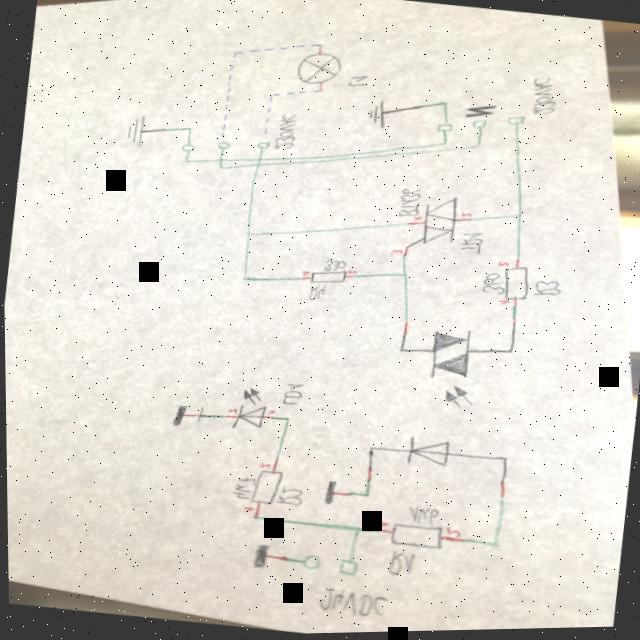crossover: (256, 156, 264, 164), (216, 156, 225, 163), (254, 162, 263, 168)
diode: (230, 385, 269, 434)
ground: (123, 112, 151, 150), (366, 99, 390, 131), (248, 541, 272, 571), (319, 478, 339, 508), (168, 402, 191, 428)
junction: (485, 539, 503, 552), (352, 525, 363, 536), (513, 212, 524, 222), (498, 456, 510, 465), (361, 492, 372, 501), (366, 445, 377, 454), (250, 513, 261, 522), (238, 275, 251, 282), (441, 99, 451, 108), (505, 349, 515, 358), (399, 271, 409, 280), (243, 230, 254, 238), (395, 347, 406, 355), (216, 164, 228, 171), (185, 125, 195, 133), (473, 144, 483, 152), (181, 157, 192, 164), (402, 244, 411, 252), (283, 416, 292, 423), (441, 140, 450, 147), (231, 50, 240, 57), (317, 42, 326, 49), (317, 88, 325, 95), (269, 92, 276, 99)
resistor: (387, 521, 446, 554), (248, 467, 283, 508), (500, 266, 532, 305), (309, 268, 347, 288)
terminal: (335, 557, 359, 579), (299, 553, 321, 573), (505, 115, 526, 129), (470, 118, 489, 133)
text: (314, 585, 391, 623), (527, 75, 561, 121), (273, 112, 300, 153), (384, 549, 416, 580), (403, 504, 442, 529), (458, 230, 486, 259), (397, 188, 422, 220), (531, 278, 563, 303), (463, 101, 497, 124), (279, 381, 306, 408), (230, 475, 257, 502), (480, 272, 508, 297), (274, 486, 304, 509), (323, 258, 348, 275), (346, 74, 371, 91), (307, 285, 327, 303), (443, 526, 462, 540), (375, 519, 390, 531), (239, 504, 255, 514), (388, 249, 404, 259), (496, 261, 511, 271), (496, 299, 511, 309), (459, 212, 474, 221), (257, 462, 271, 470), (265, 409, 276, 417), (347, 269, 358, 277), (413, 217, 424, 224), (227, 408, 238, 415), (300, 271, 311, 278)
